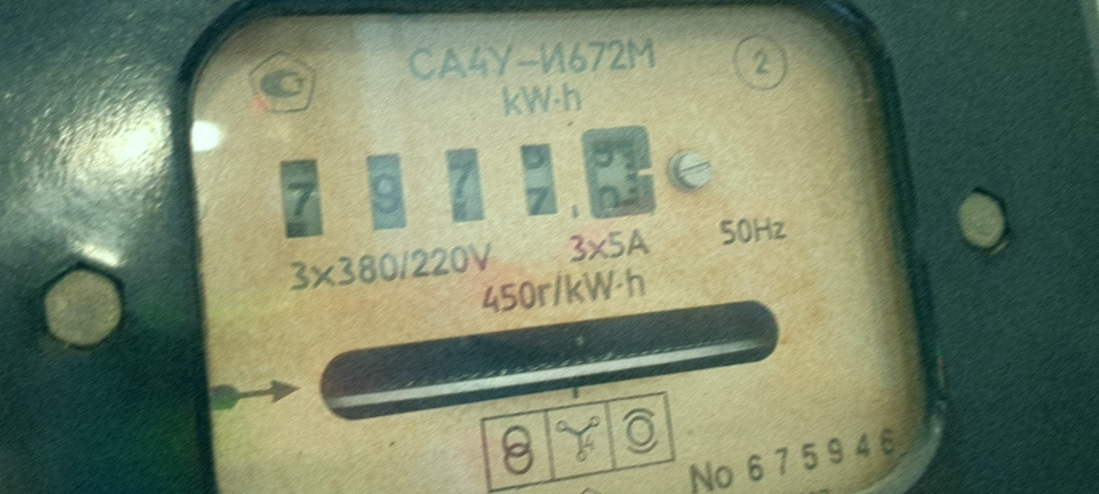0: (594, 181, 621, 213)
7: (281, 176, 320, 225), (521, 177, 556, 222), (445, 159, 479, 203)
9: (367, 169, 403, 220), (587, 137, 621, 173)
screen: (261, 100, 675, 278)
